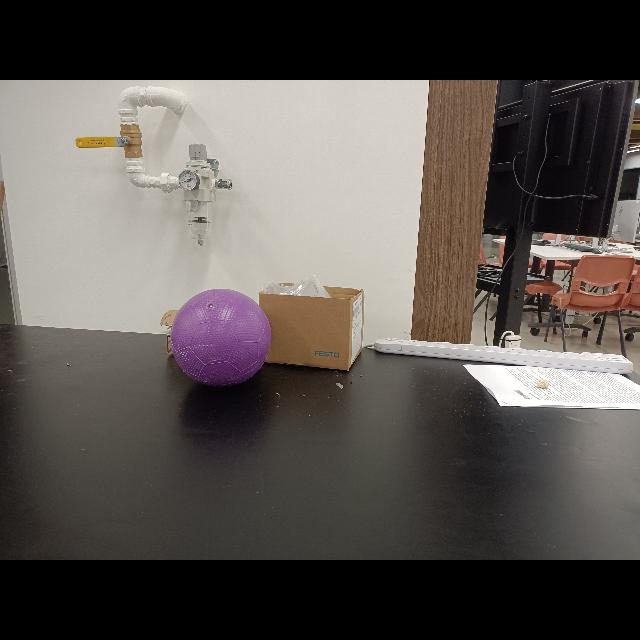P: (173, 289, 274, 389)
